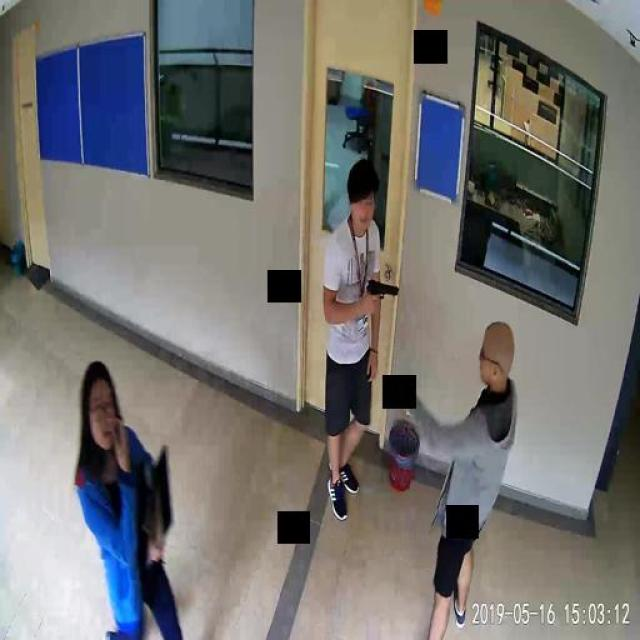gun: (367, 275, 398, 309)
